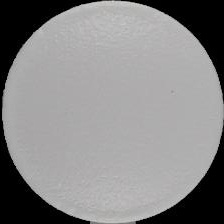0615-3584: (0, 0, 224, 224)
